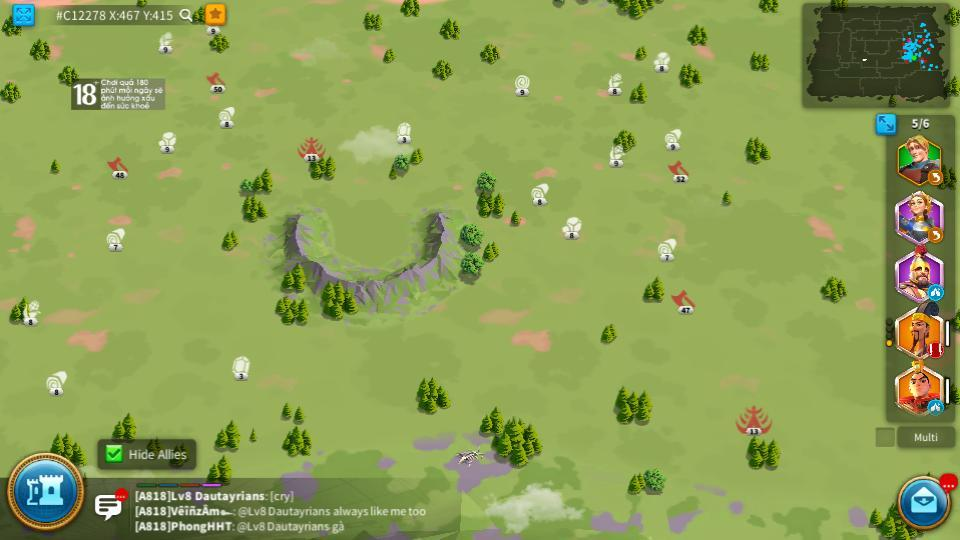gem-z-out: (230, 356, 251, 379), (394, 122, 412, 142)
march_attacking: (929, 351, 941, 359)
march_idle: (927, 401, 945, 415), (929, 284, 942, 299)
march_returning: (927, 170, 944, 185), (928, 229, 942, 242)
